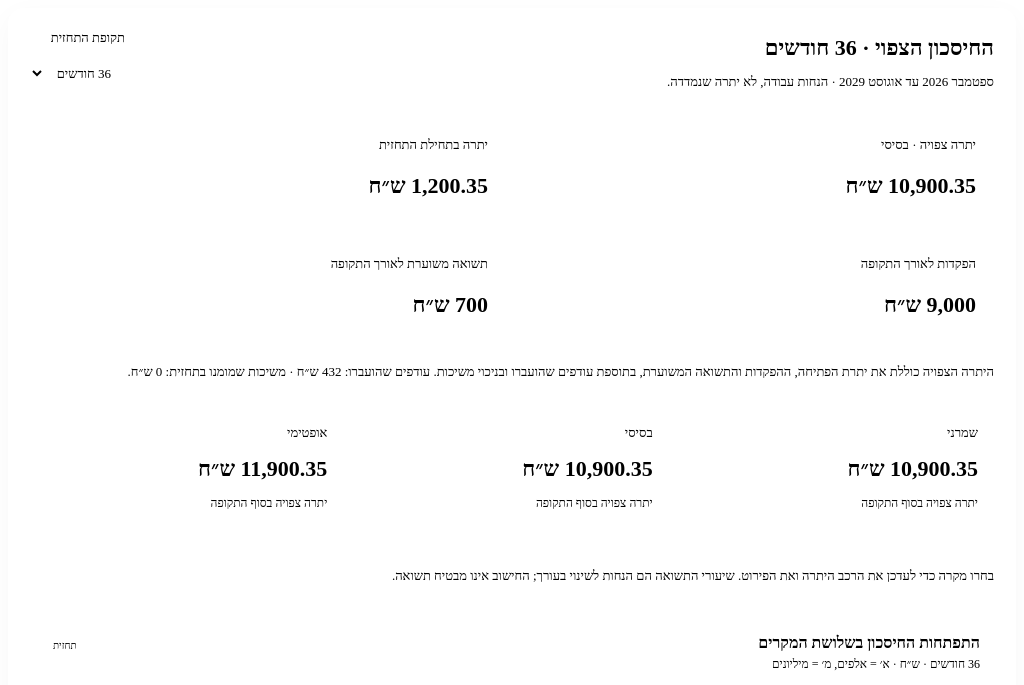
Test: Forecast results › updates the summary and detail when another assumption case is selected
Step 1. Click the button "אופטימי 11,900.35 ש״ח יתרה צפויה בסוף התקופה" → (307, 432), box [30, 405, 343, 531]
(page scrolled)
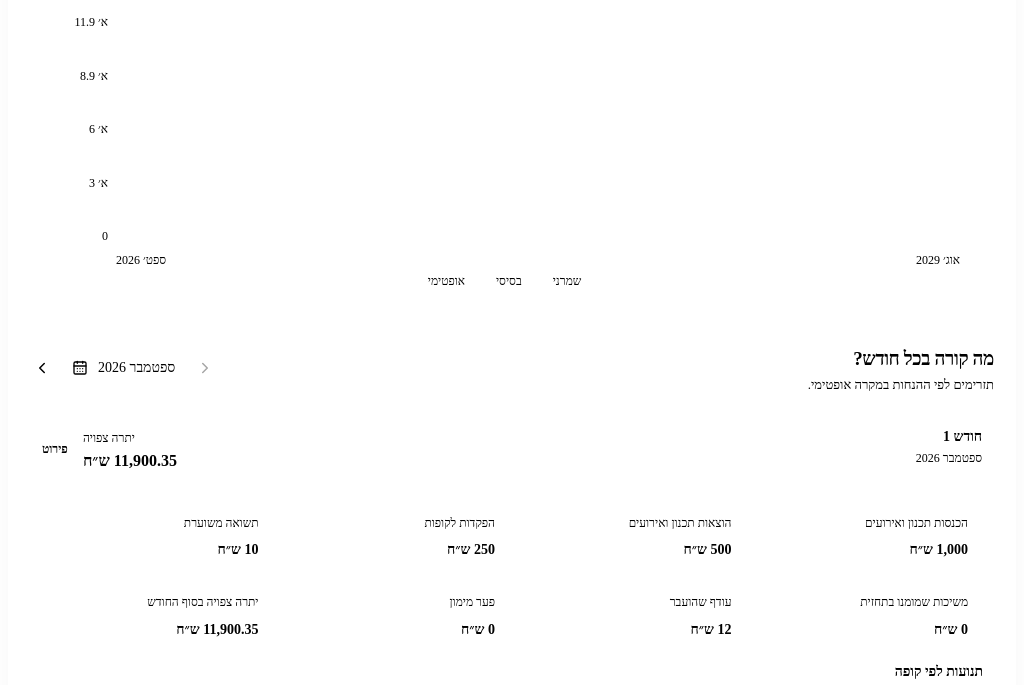
Now the text "תזרימים לפי ההנחות במקרה אופטימי." is shown, box [808, 374, 994, 396]
